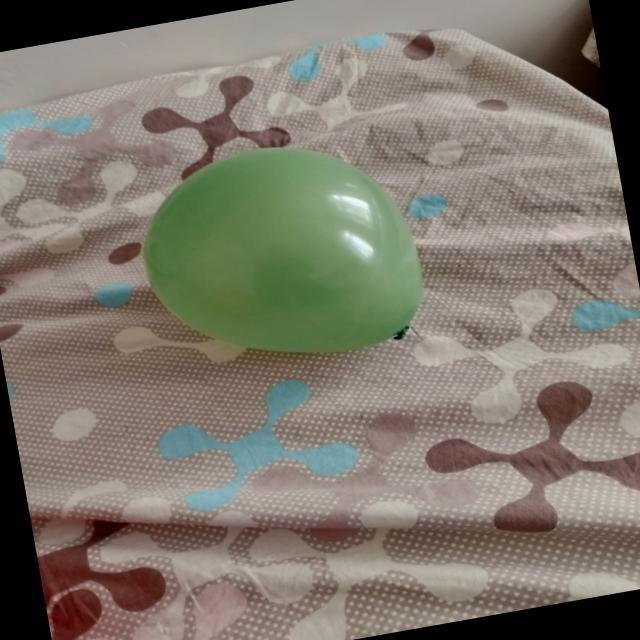balloon: (142, 147, 422, 352)
